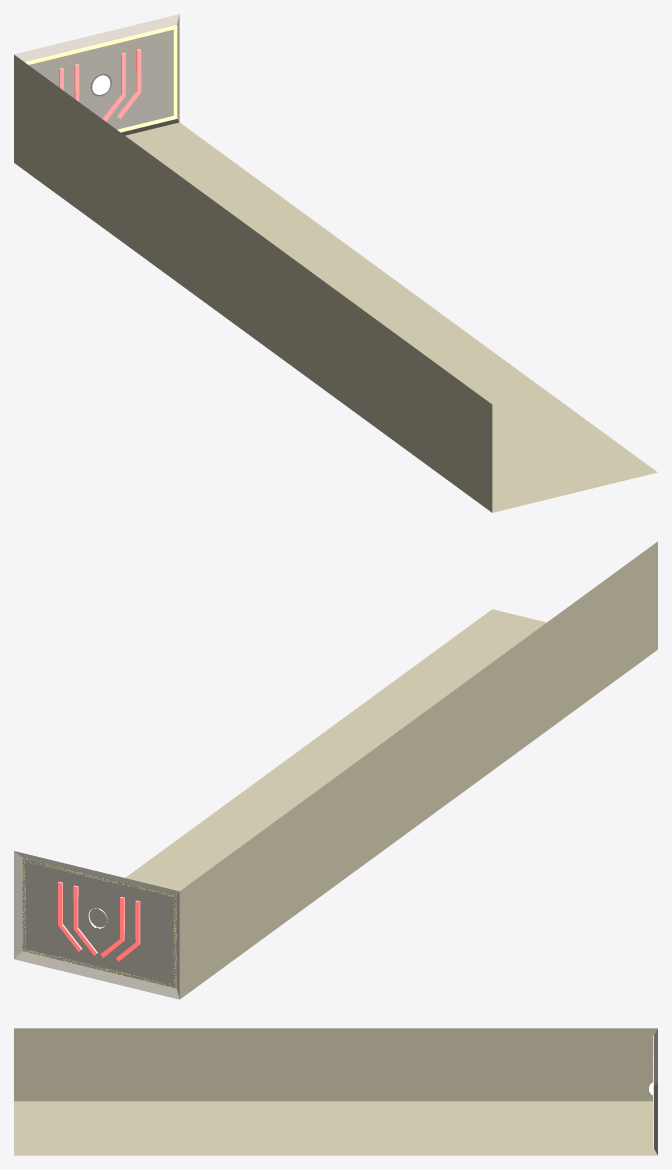
The model's file is coridor1.fbx.
3 views of the same model, one above another, from view 1: azimuth 30°, elevation 25°; view 2: azimuth 150°, elevation 25°; view 3: azimuth 270°, elevation 25° (orthographic). The views are drawn at different scales.
Parts seen in each view (by area): view 1: новый коридор, новый коридор.002, новый коридор.003; view 2: новый коридор, новый коридор.002, стекло на двери, стекло на двери.001; view 3: новый коридор, новый коридор.002.
Part boxes in pixels (x1=…): новый коридор: x1=14, y1=54, x2=657, y2=512; новый коридор.002: x1=14, y1=14, x2=179, y2=135; новый коридор.003: x1=25, y1=25, x2=177, y2=132; новый коридор: x1=125, y1=541, x2=657, y2=999; новый коридор.002: x1=14, y1=851, x2=179, y2=999; стекло на двери: x1=58, y1=881, x2=140, y2=961; стекло на двери.001: x1=73, y1=885, x2=124, y2=957; новый коридор: x1=14, y1=1028, x2=657, y2=1155; новый коридор.002: x1=654, y1=1029, x2=657, y2=1154.
Bounding box in the file's own units: 214 × 134 × 1071.
